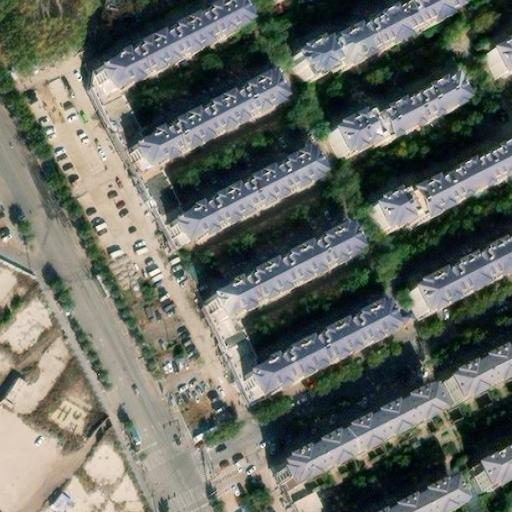building: (240, 300, 401, 406), (281, 389, 442, 495), (166, 150, 327, 255), (206, 228, 367, 333), (296, 0, 467, 90), (93, 69, 187, 224), (368, 142, 512, 243), (148, 74, 291, 170), (325, 75, 474, 166), (406, 234, 512, 319), (445, 348, 512, 413), (388, 480, 468, 512), (476, 449, 512, 492), (489, 41, 512, 82), (293, 492, 326, 512)
